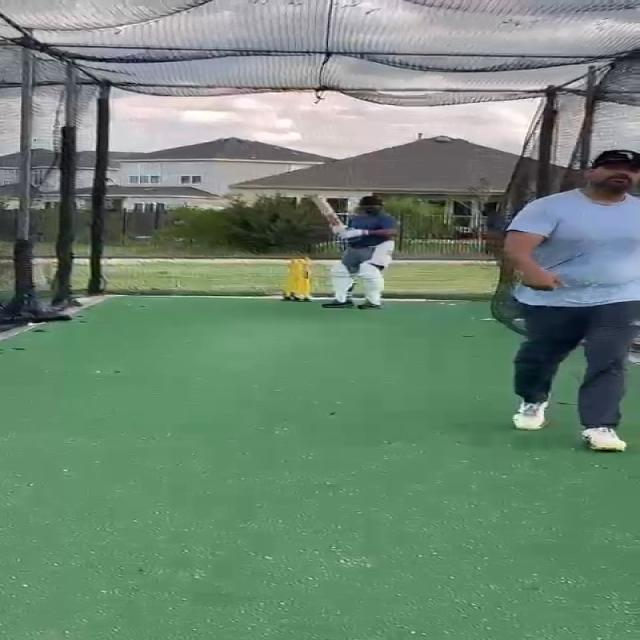batsman: (305, 192, 401, 311)
